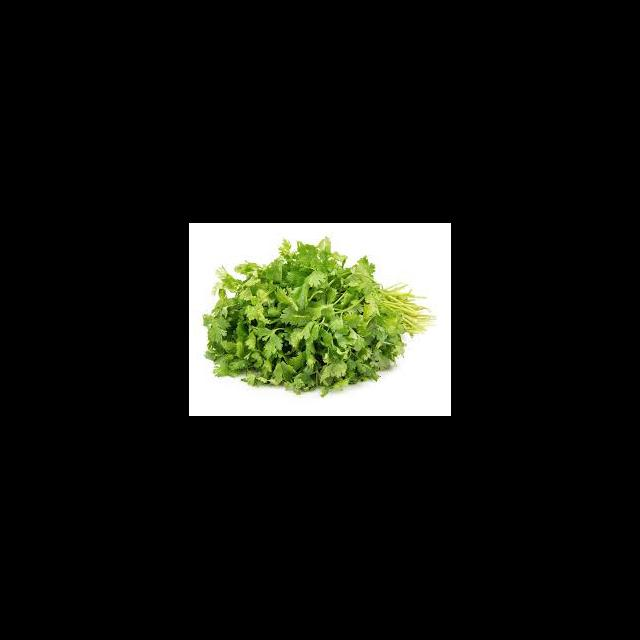cilantro: (202, 238, 428, 398)
